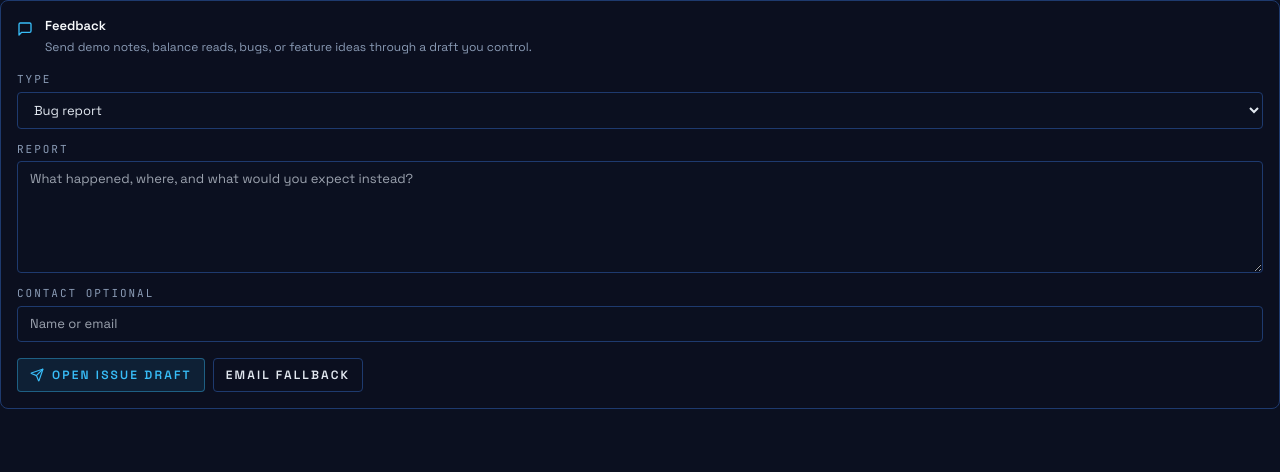
Scenario: FeedbackForm › validates short reports before opening a draft
This screenshot has width=1280, height=472.
Click the button "Open Issue Draft": (111, 374) [17, 358, 205, 392]
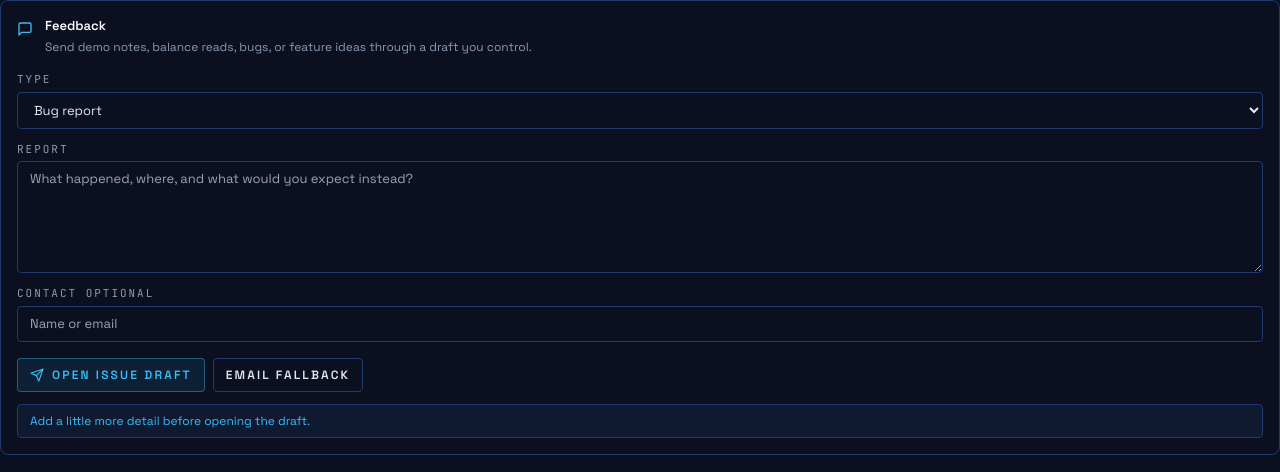
Now the text "Add a little more detail" is shown, box [30, 412, 310, 428]
